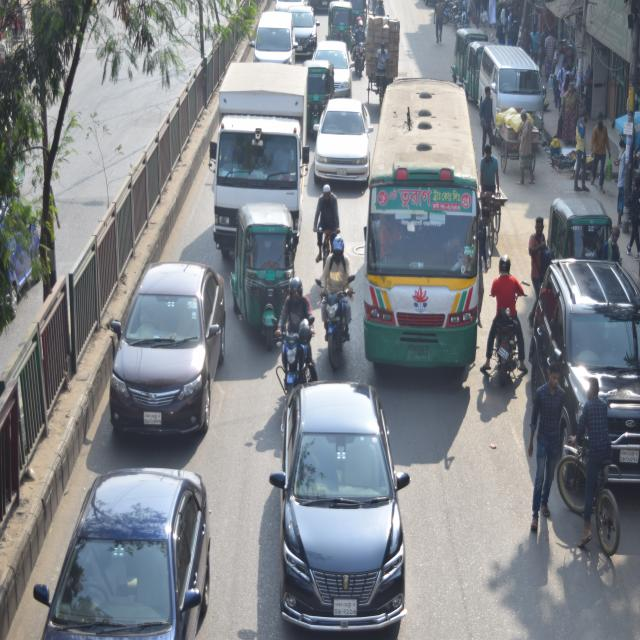bus: (366, 76, 486, 383)
car: (275, 375, 405, 640), (41, 455, 221, 640), (104, 251, 228, 448), (312, 96, 371, 184), (316, 39, 360, 90)
microbus: (474, 39, 538, 132), (248, 5, 296, 68)
motorbike: (317, 265, 361, 379), (487, 268, 524, 395), (272, 304, 312, 414), (312, 197, 341, 271)
pickup-van: (211, 58, 314, 254)
